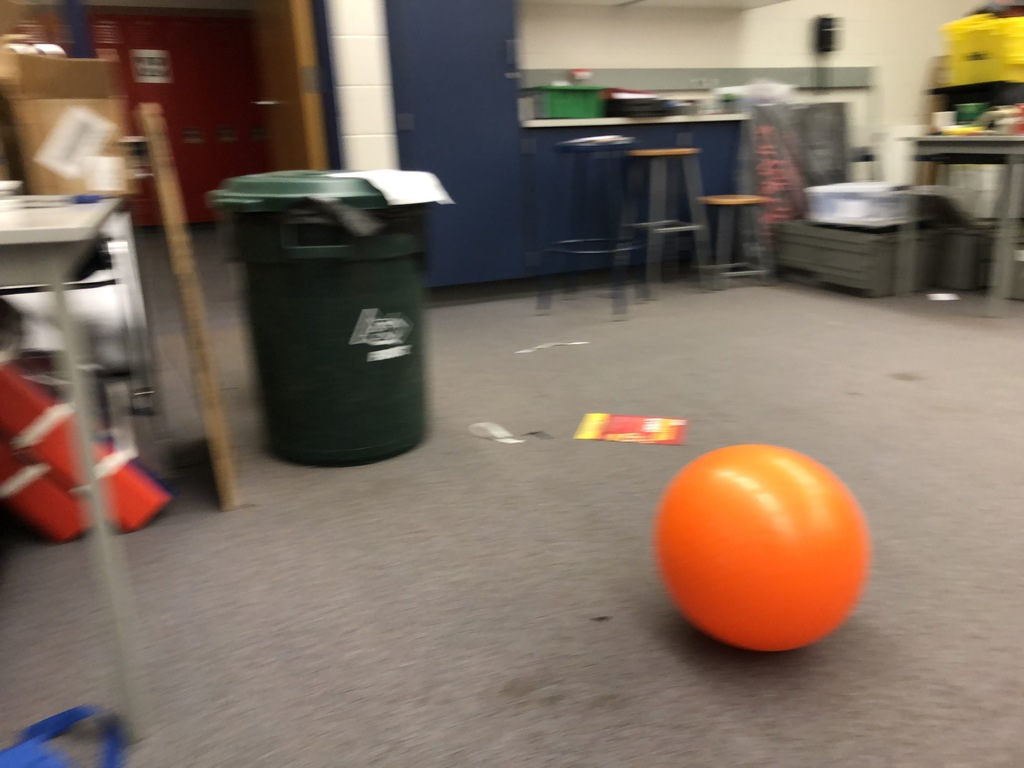cargo: (649, 431, 875, 663)
